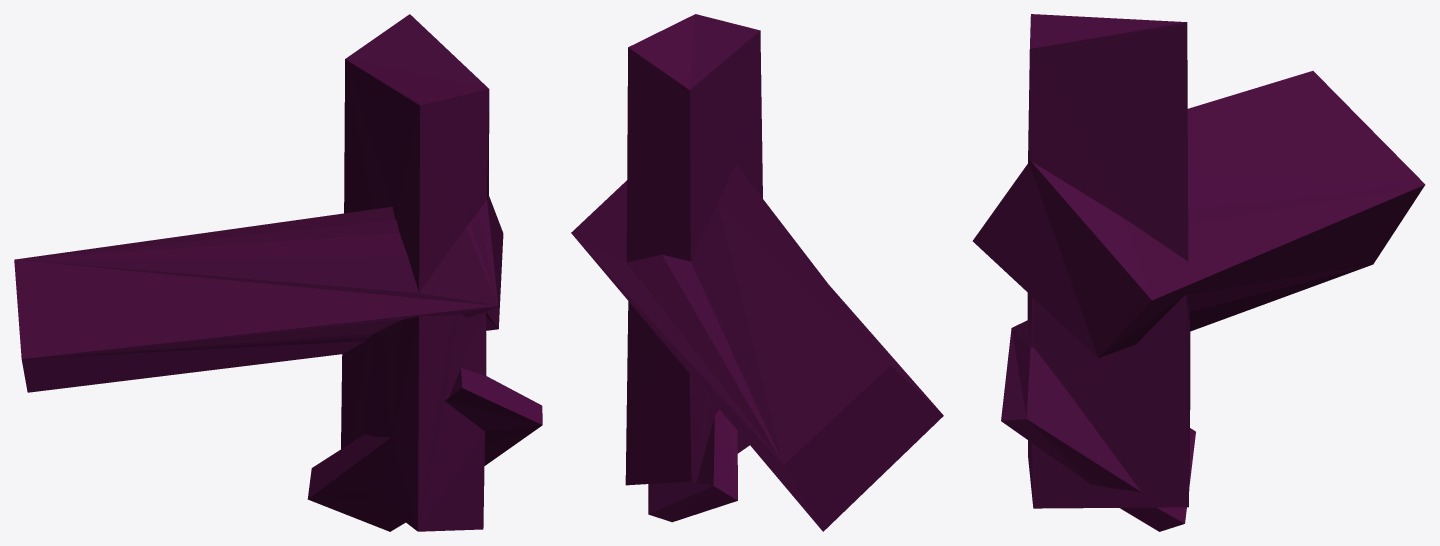
The picture shows the model from 3 angles, left to right: view 1: azimuth 30°, elevation 25°; view 2: azimuth 150°, elevation 25°; view 3: azimuth 270°, elevation 25°; orthographic projection. The views are drawn at different scales.
Parts seen in each view (by area): view 1: 743_Cube.2984; view 2: 743_Cube.2984; view 3: 743_Cube.2984.
Part boxes in pixels (bbox=[...]): 743_Cube.2984: bbox=[14, 14, 542, 531]; 743_Cube.2984: bbox=[571, 14, 943, 531]; 743_Cube.2984: bbox=[972, 14, 1425, 531].
Bounding box in the file's own units: 12.6 × 13.79 × 10.81.
